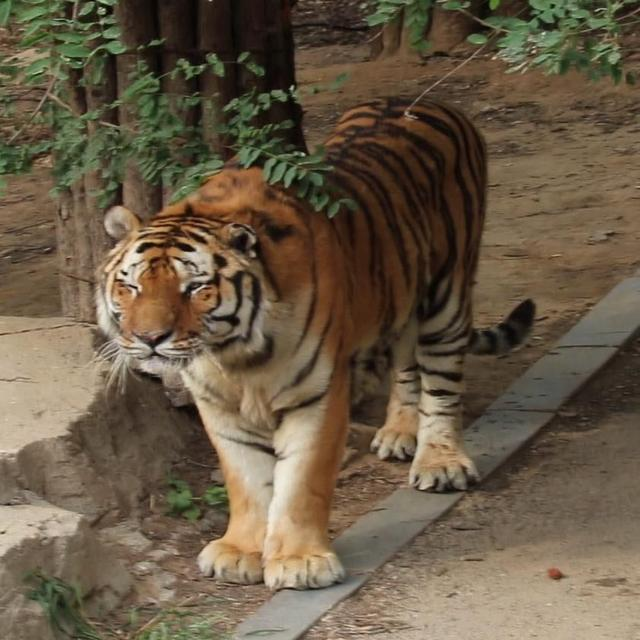tiger: (90, 79, 547, 594)
